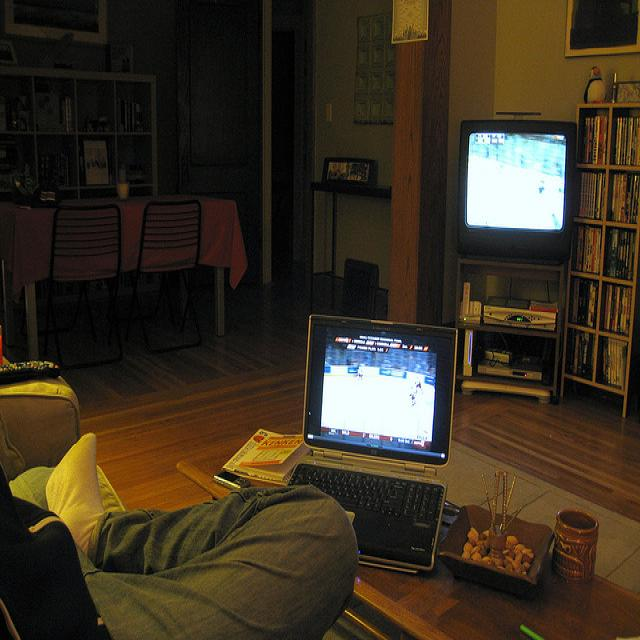People: (0, 403, 365, 640)
Table: (0, 141, 258, 372), (448, 251, 566, 420), (303, 145, 401, 310)
chair: (43, 179, 125, 376), (132, 190, 217, 371)
